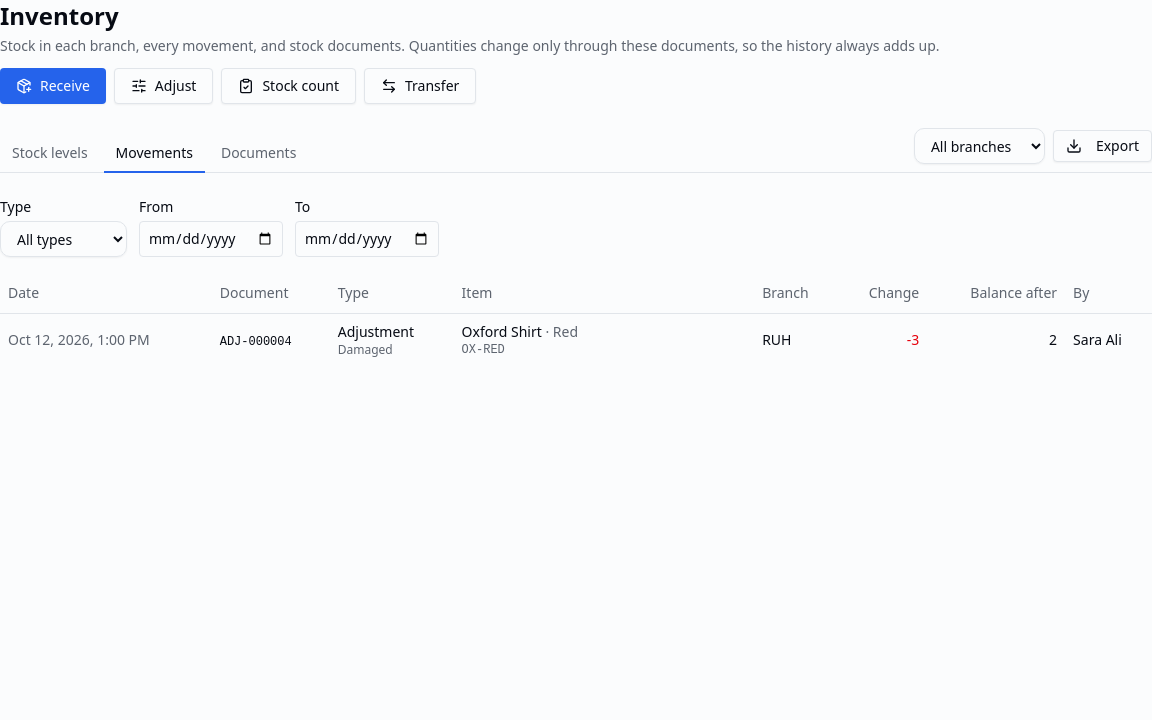
Test: Inventory page › movements show the ledger with who did it; a document opens with its rows
Expected: the text "-3" is shown, [907, 330, 919, 348]
Expected: the text "Damaged" is shown, [338, 340, 393, 358]
Click the button "ADJ-000004": (256, 342) [220, 334, 292, 350]
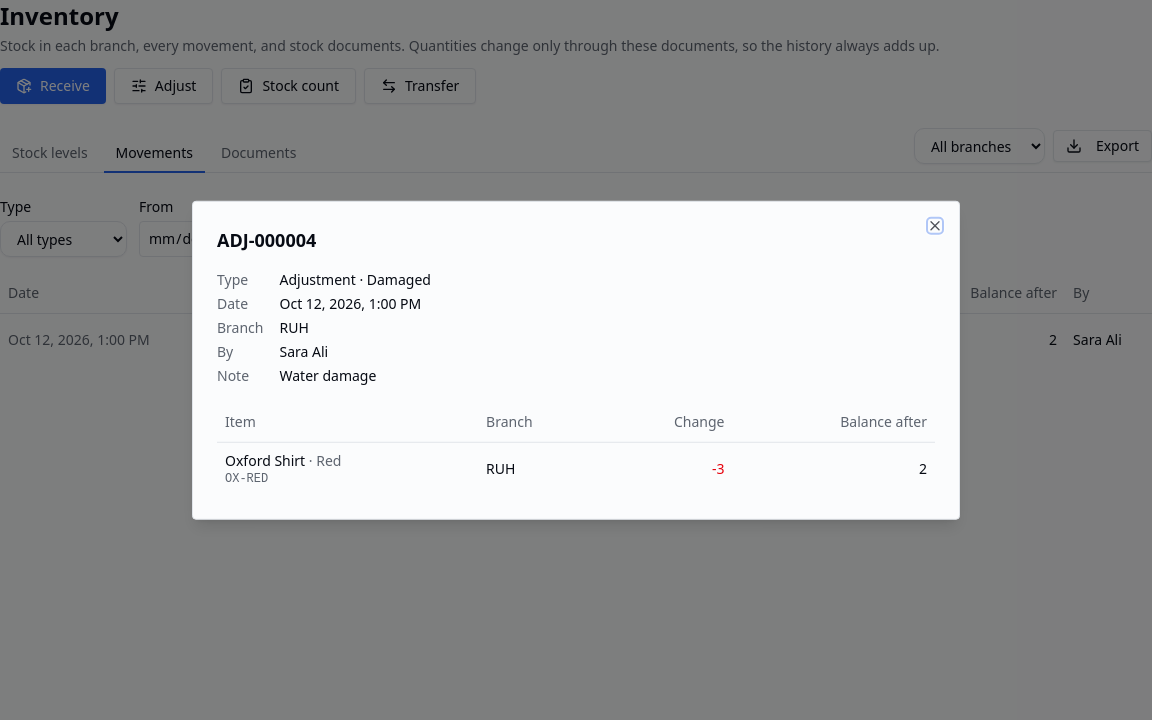
Now the text "Water damage" is shown, box [280, 366, 376, 385]
